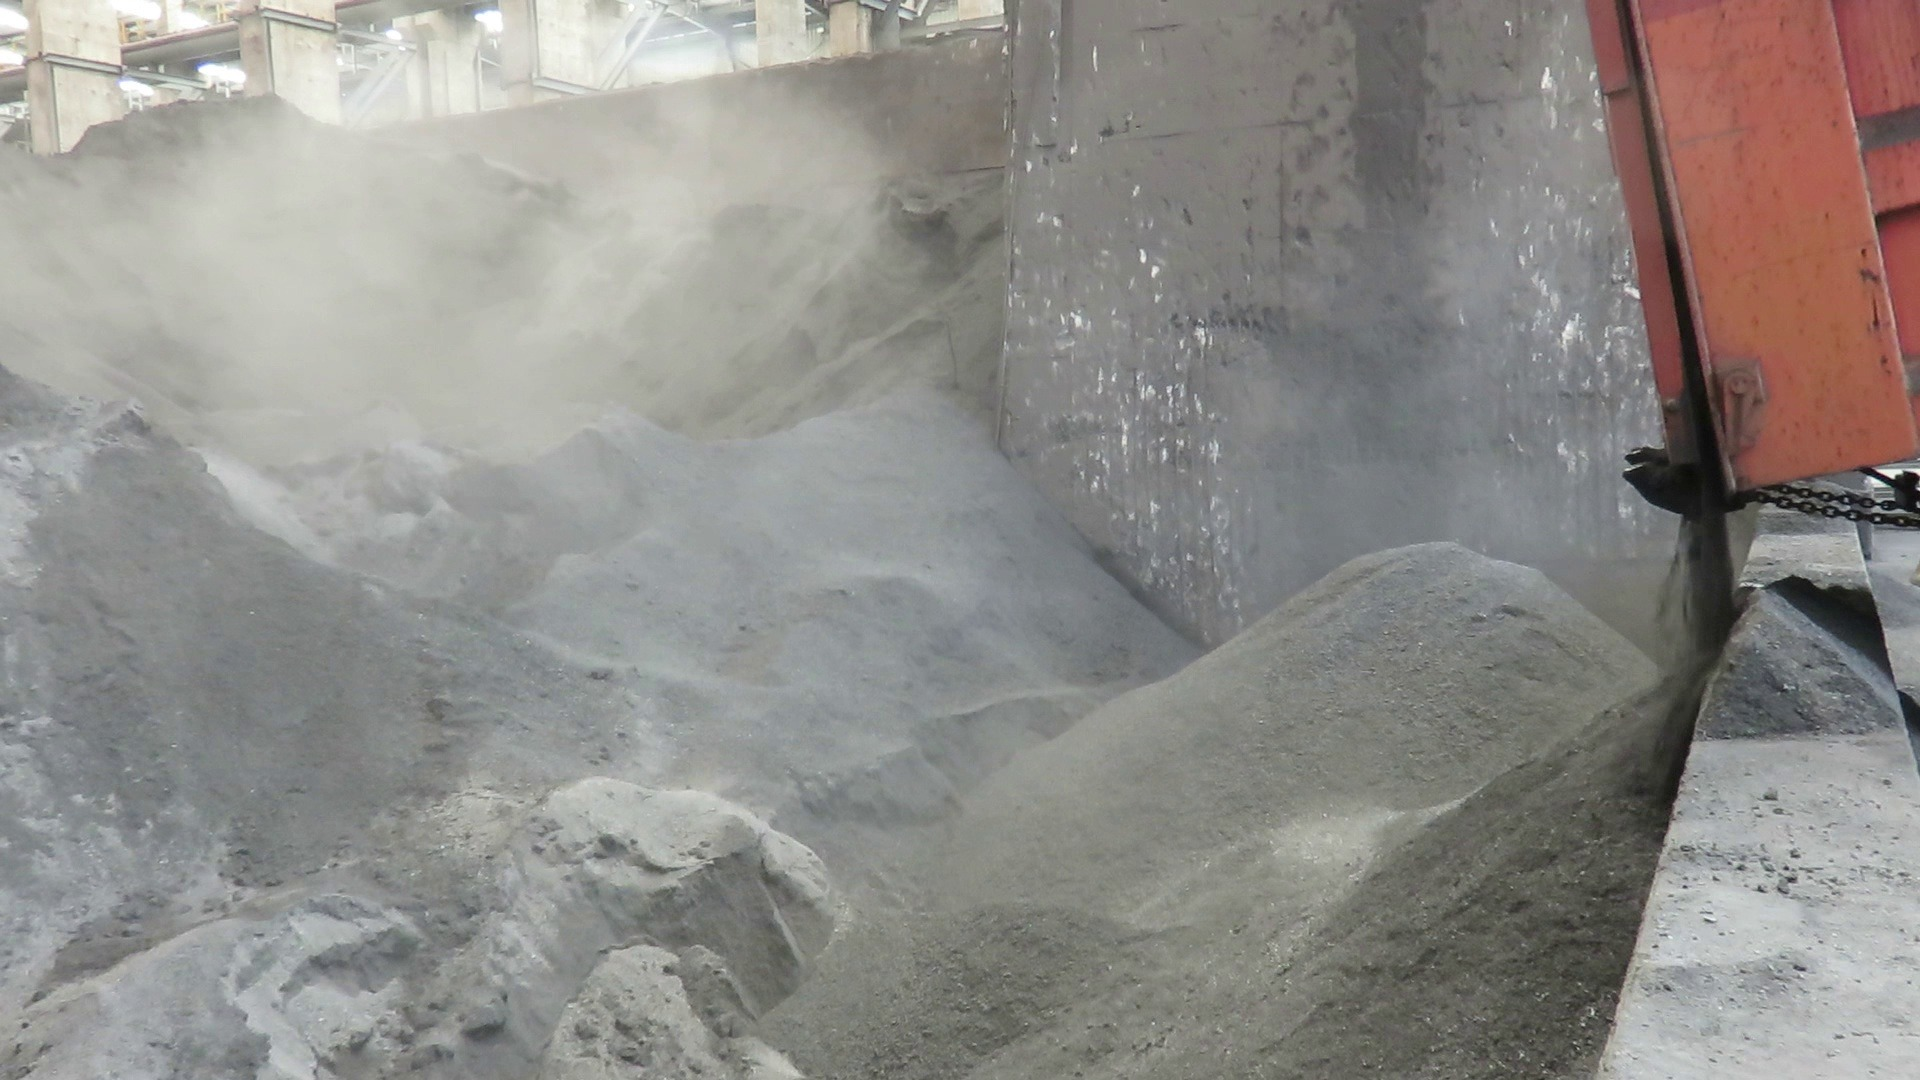dust: (11, 34, 1567, 793)
